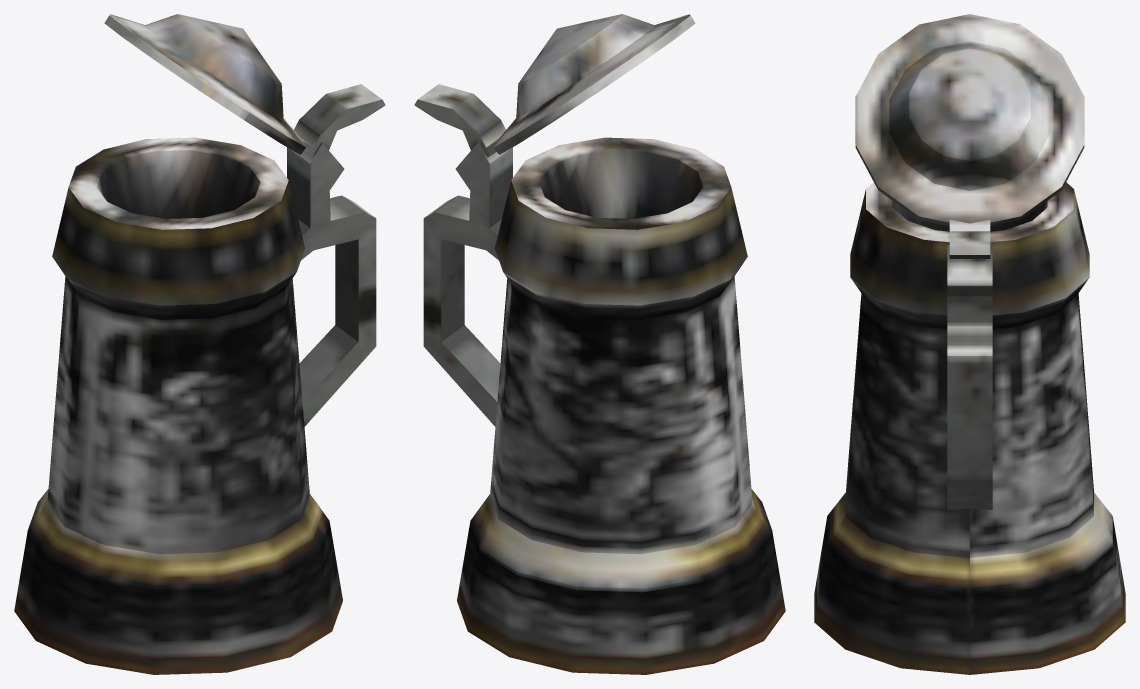
The model's file is icon.ico.obj.
3 views of the same model, side by side, from view 1: azimuth 30°, elevation 25°; view 2: azimuth 150°, elevation 25°; view 3: azimuth 270°, elevation 25° (orthographic). The views are drawn at different scales.
Bounding box in the file's own units: 3.02 × 5 × 2.47.
1 material, 1 textured.
